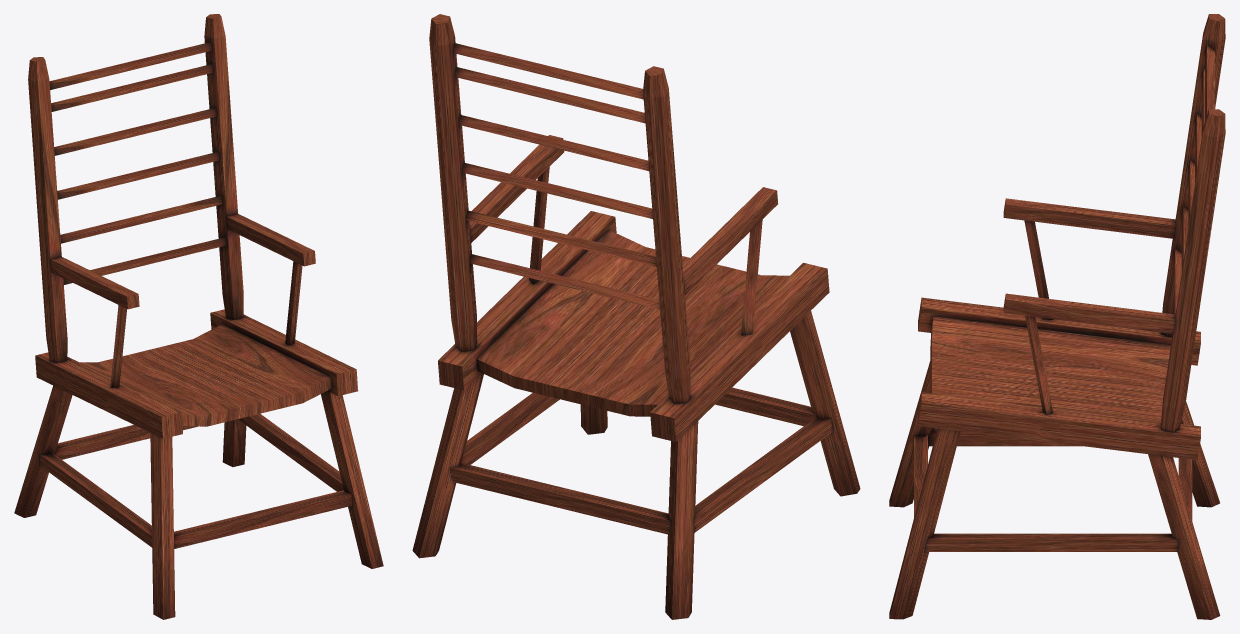
File: misc_chair01.obj
3 renders of one model, left to right at view 1: azimuth 30°, elevation 25°; view 2: azimuth 150°, elevation 25°; view 3: azimuth 270°, elevation 25°, orthographic. The views are drawn at different scales.
Visible parts, largest first — view 1: misc_chair01; view 2: misc_chair01; view 3: misc_chair01.
Boxes of the visible parts, left/top/right/bottom form: misc_chair01: left=14, top=14, right=383, bottom=619; misc_chair01: left=412, top=14, right=860, bottom=619; misc_chair01: left=889, top=14, right=1225, bottom=619.
Size of the model in its own units: 1.13 by 2.13 by 1.31.
Materials: 1 (1 with a texture image).
